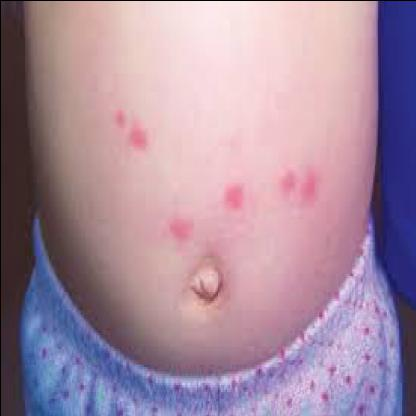Bed Bug: (268, 156, 324, 204), (108, 102, 150, 150), (162, 198, 194, 241), (217, 178, 247, 212)
